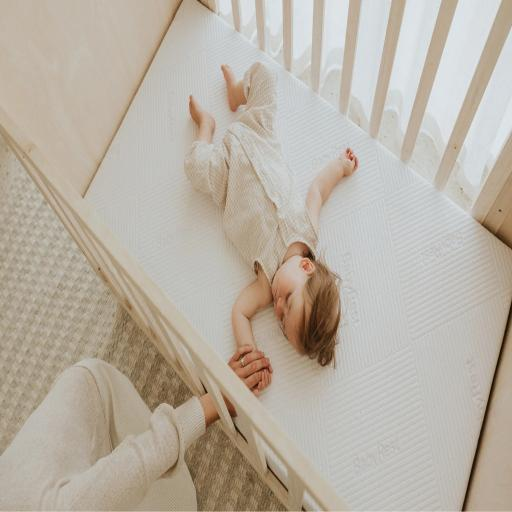baby: (185, 63, 358, 365)
crib: (0, 0, 511, 509)
